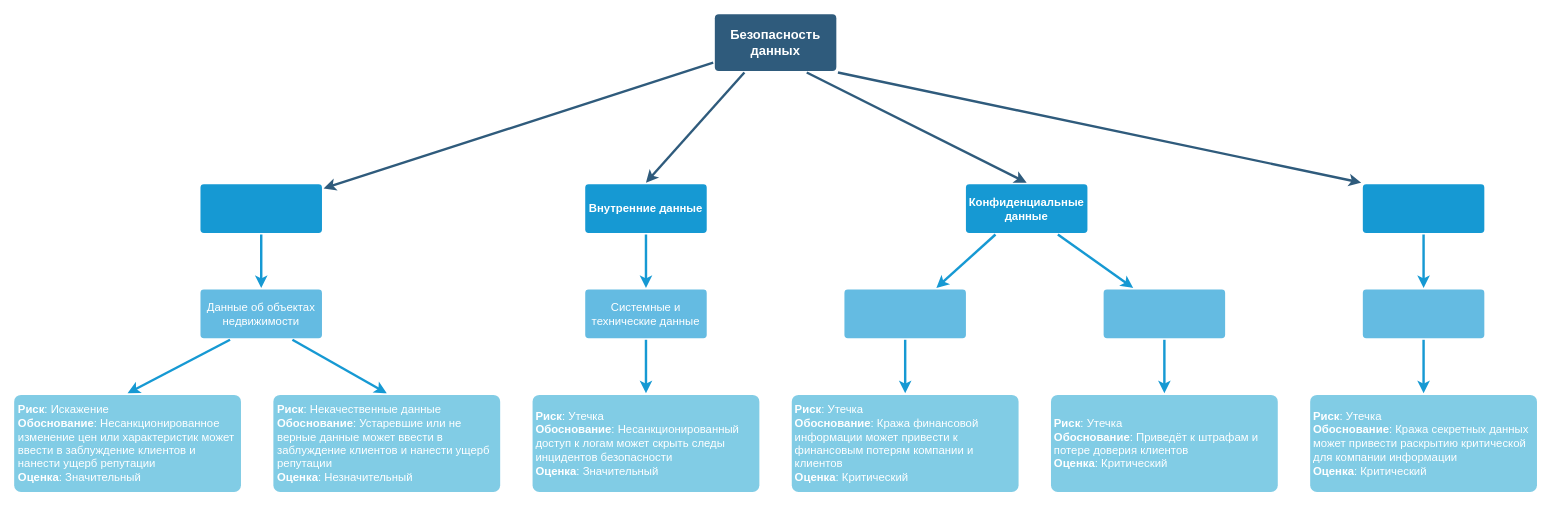
Some shapes in this 1550 by 505 pixel diagram are drawn without their labels. The centre of each missing label's shape, as x and y in pixels:
Персональные данные клиентов: (1164,313)
Публичные данные: (261,208)
Секретные данные: (1423,208)
Секретные ключи: (1423,313)
Финансовые данные: (905,313)
